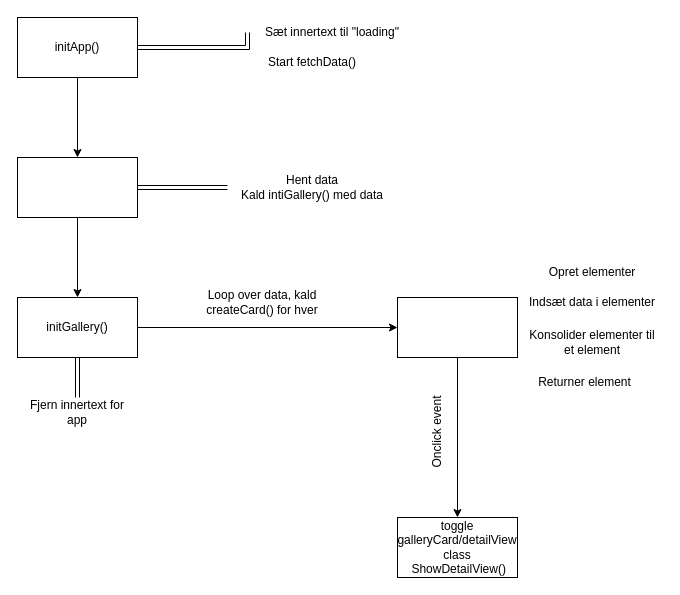
Image size: 680x595. Some labels were removed from this diagram. Each missing label, with the centre of its shape:
"createCard()" goes at (x=457, y=327).
"fetchData()" goes at (x=77, y=187).
